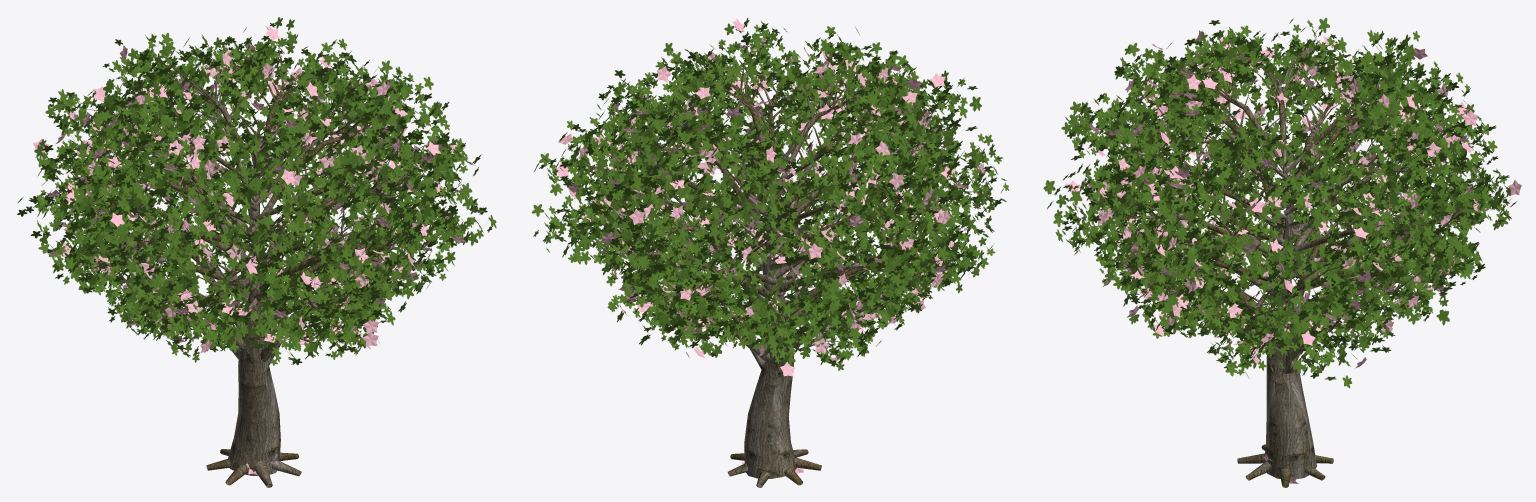
File: tour-higan-cherry.glb
3 renders of one model, left to right at view 1: azimuth 30°, elevation 25°; view 2: azimuth 150°, elevation 25°; view 3: azimuth 270°, elevation 25°, orthographic.
Visible parts, largest first — view 1: red-maple, Spring Higan cherry flowers; view 2: red-maple, Spring Higan cherry flowers; view 3: red-maple, Spring Higan cherry flowers.
Boxes of the visible parts, <box> form: red-maple: <box>17,17,496,487</box>; Spring Higan cherry flowers: <box>33,26,470,474</box>; red-maple: <box>532,18,1009,487</box>; Spring Higan cherry flowers: <box>554,18,990,473</box>; red-maple: <box>1043,17,1516,487</box>; Spring Higan cherry flowers: <box>1065,30,1521,483</box>.
Bounding box in the file's own units: 7.31 × 7.08 × 7.5.
Materials: 3 (2 with a texture image).
